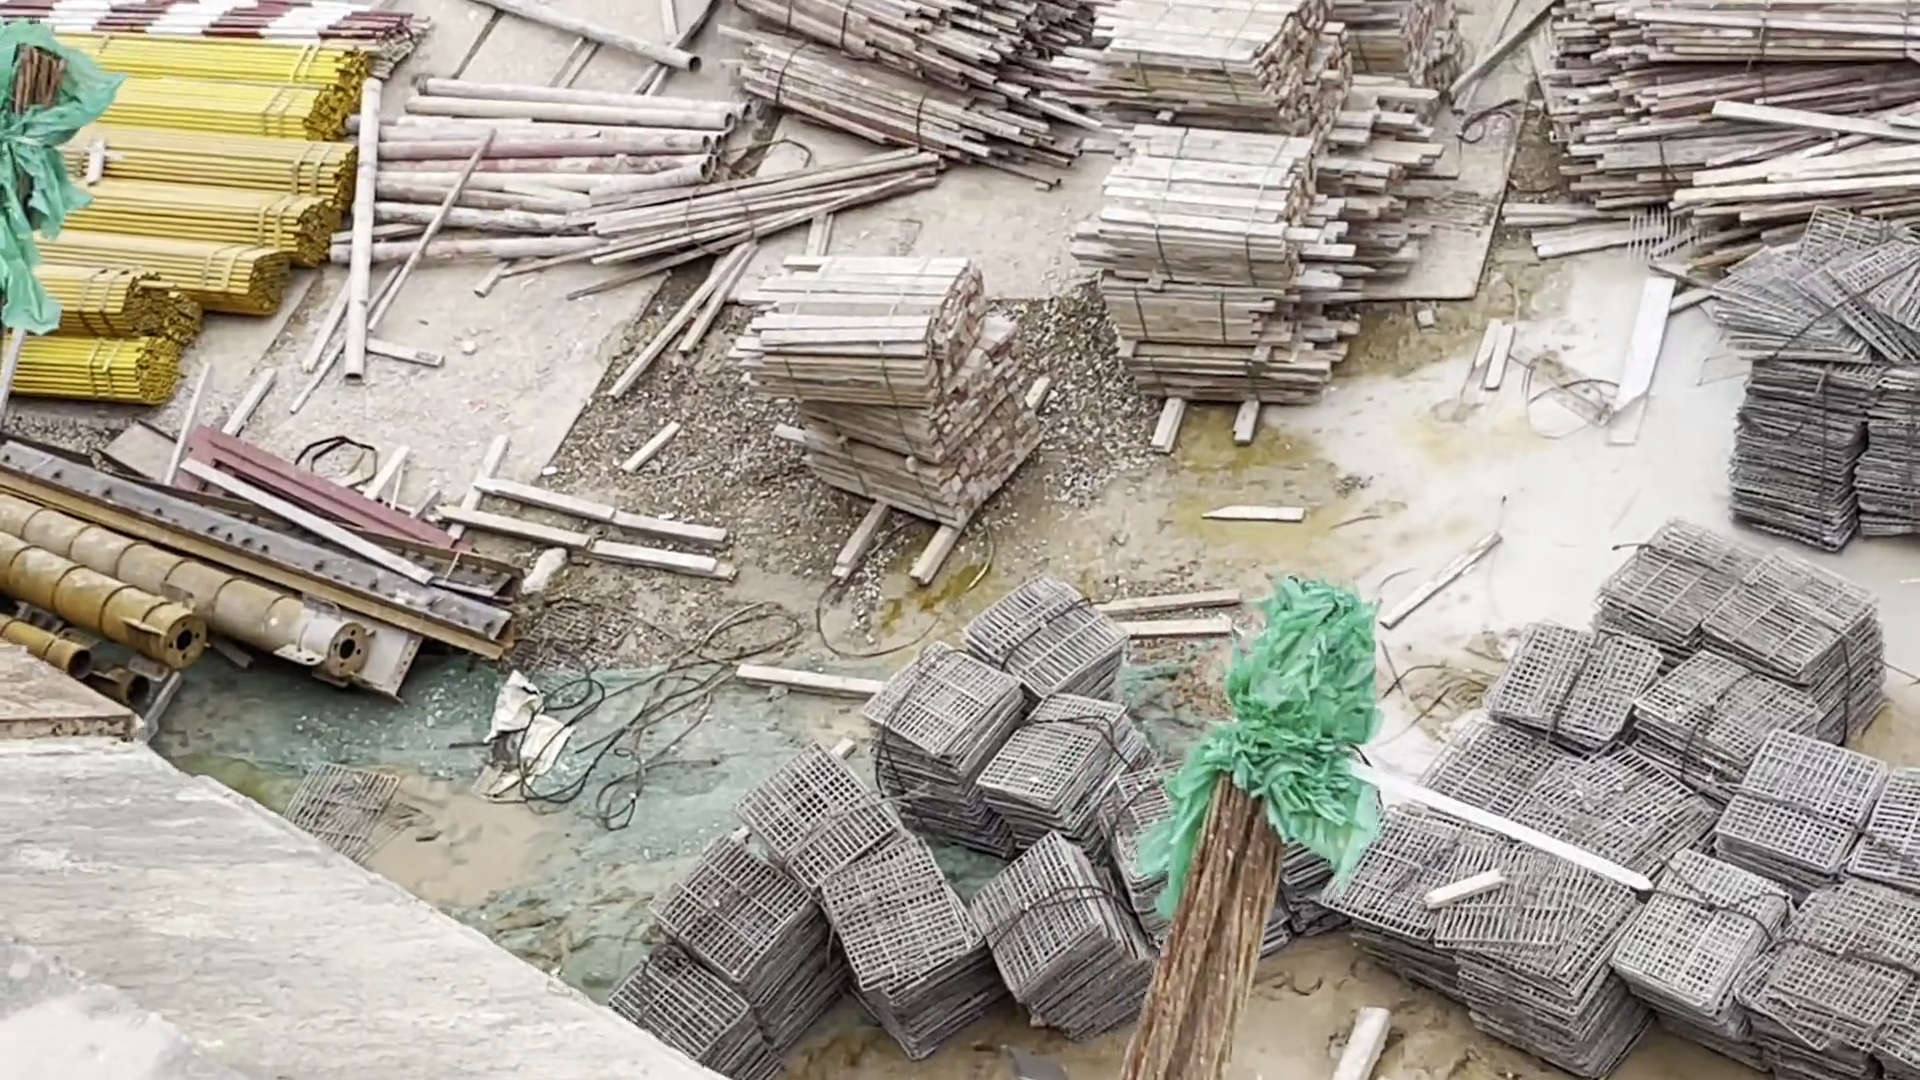wood: (1083, 1, 1458, 439), (731, 252, 1054, 541), (1539, 1, 1920, 229), (716, 1, 1071, 181)
